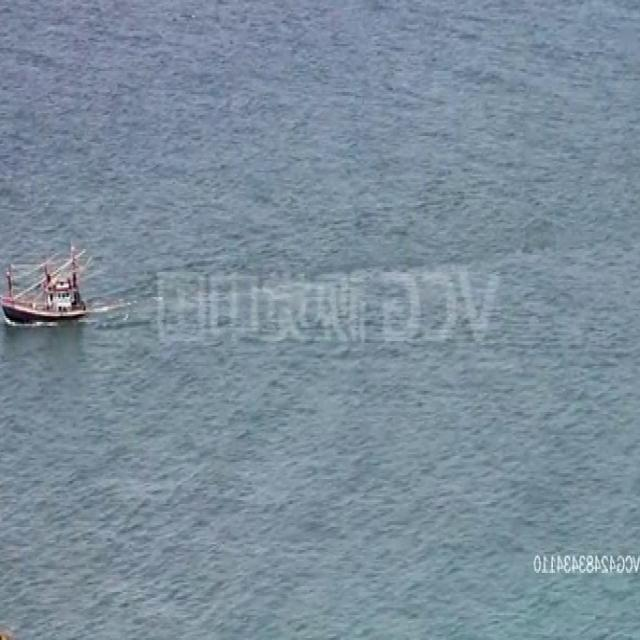fishing boat: (1, 245, 90, 326)
